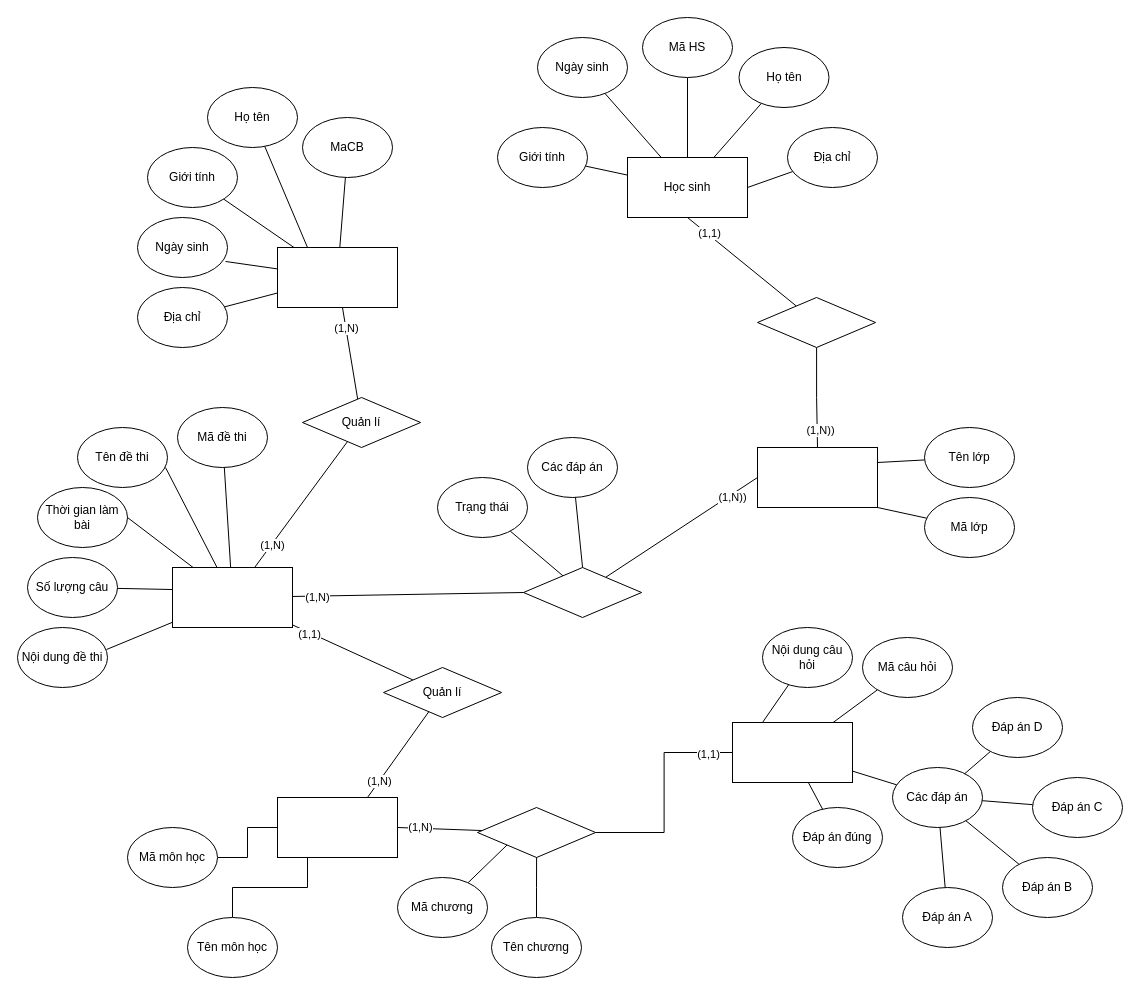
This 1140x995 diagram has some shape labels left out. Each missing label, with the box of its shape:
Bài làm: (522, 566, 642, 618)
Chương: (476, 806, 596, 858)
Cán bộ: (276, 246, 398, 308)
Câu hỏi: (732, 722, 852, 782)
Lớp học: (756, 446, 878, 508)
Môn học: (276, 796, 398, 858)
Thuộc: (756, 296, 876, 348)
Đề thi: (172, 566, 292, 628)
